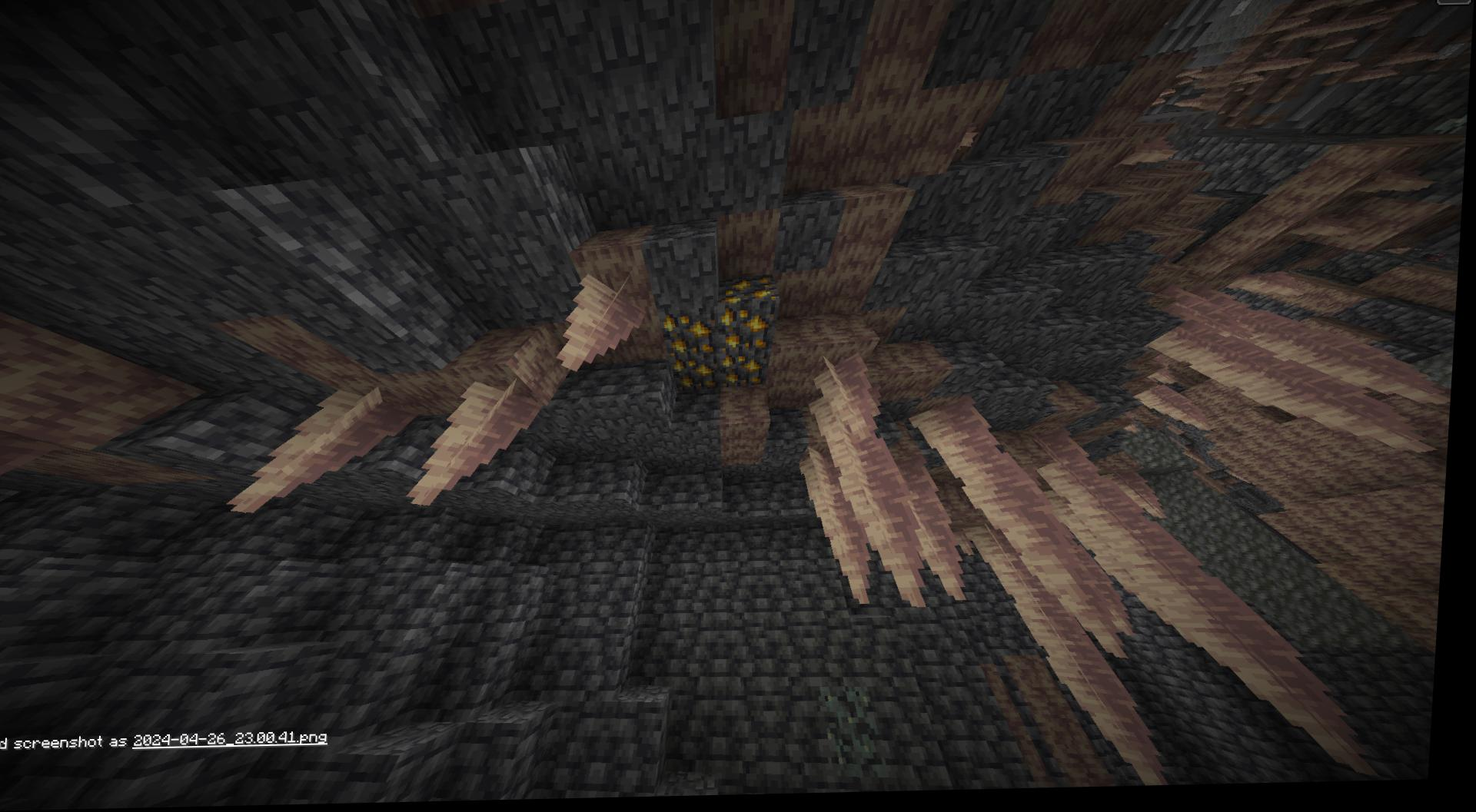gold ore: (662, 305, 725, 360), (718, 304, 779, 355), (722, 269, 779, 306), (676, 360, 725, 396), (726, 356, 772, 392)
